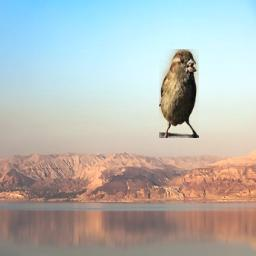Sparrow: (159, 49, 199, 138)
